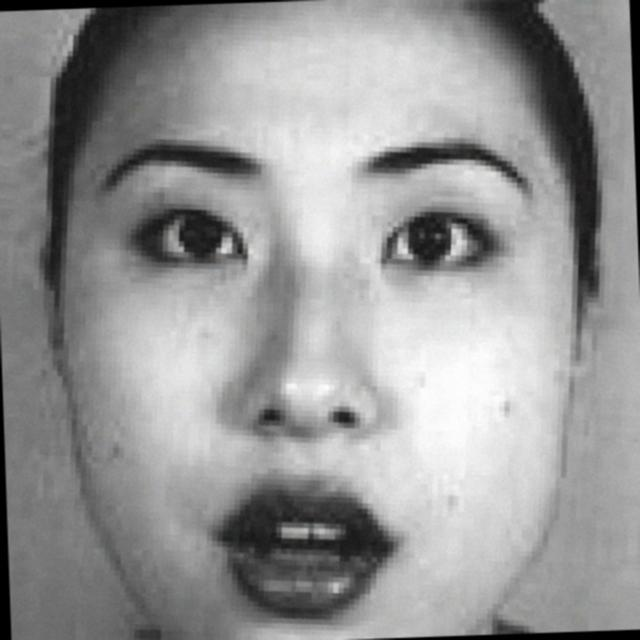surprise: (55, 36, 595, 640)
